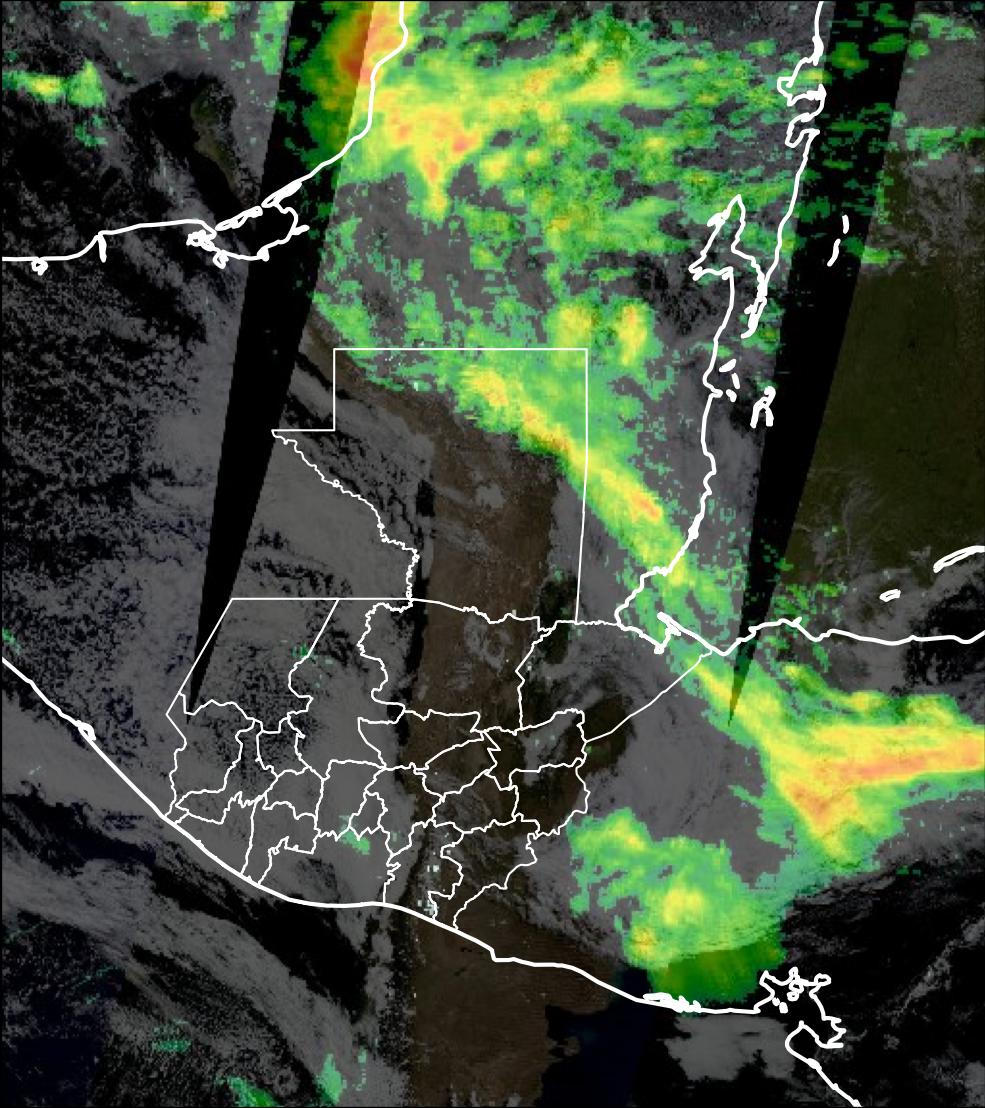precipitacion: (784, 722, 985, 842)
